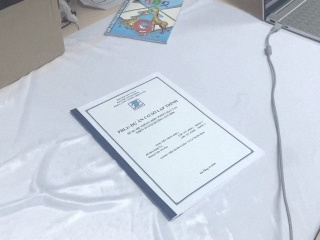book: (104, 1, 186, 44)
box: (1, 1, 65, 99)
